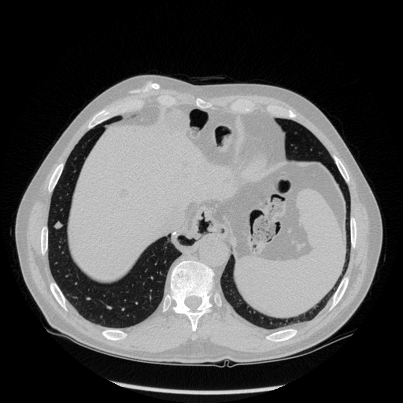nodule: (54, 221, 62, 229)
